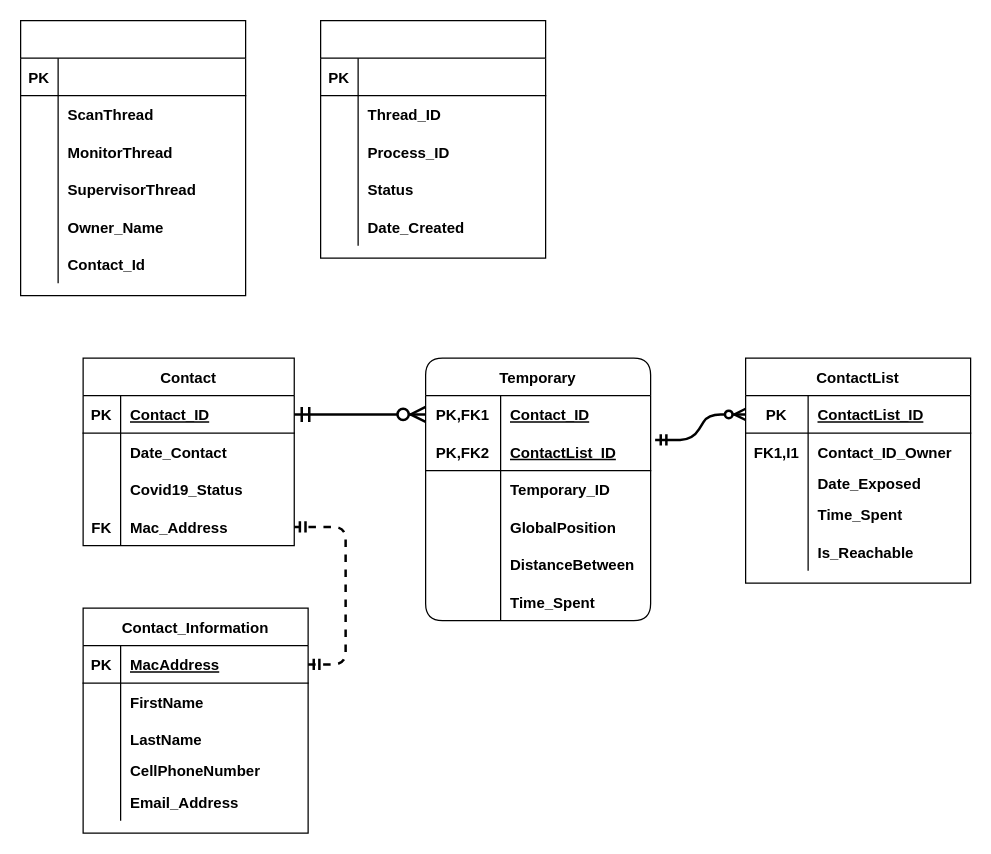
Some shapes in this 991 by 854 pixel diagram are drawn without their labels. The box of each missing label's shape, as (x1, y1, x2, y2) in pixels:
Control: (19, 19, 246, 296)
Control_ID: (319, 19, 546, 258)
